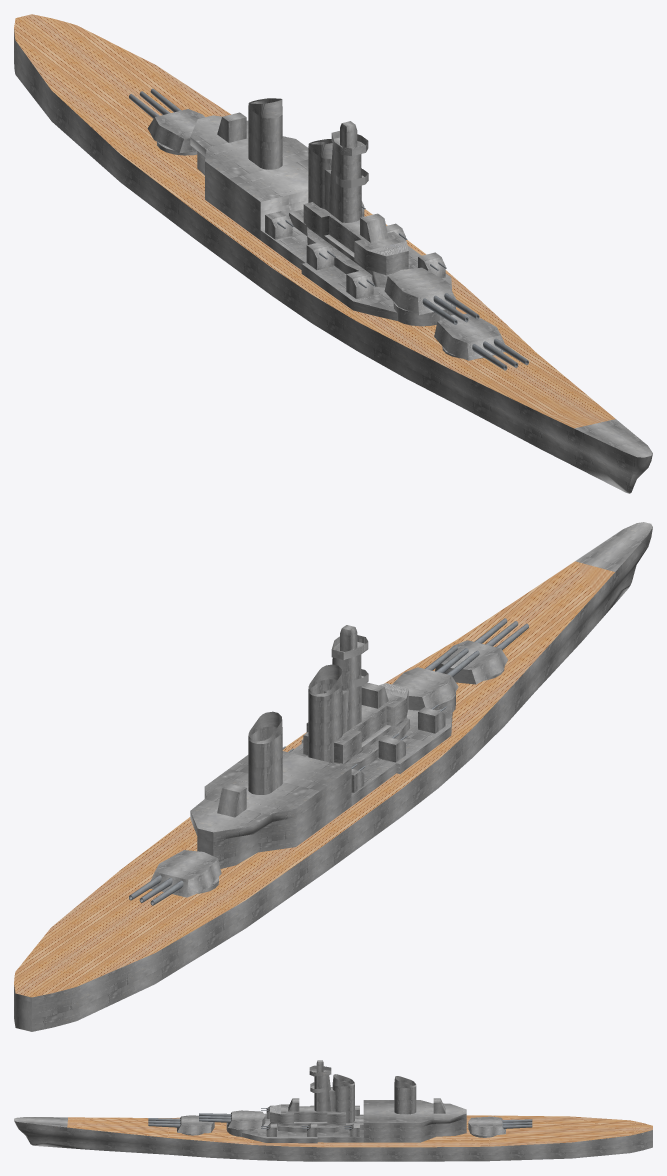
Rendered from Iowa.fbx.
3 renders of one model, top to bottom at view 1: azimuth 30°, elevation 25°; view 2: azimuth 150°, elevation 25°; view 3: azimuth 270°, elevation 25°, orthographic. The views are drawn at different scales.
Parts seen in each view (by area): view 1: pCube25; view 2: pCube25; view 3: pCube25.
Part boxes in pixels (left/top/right/bottom): pCube25: left=14, top=14, right=652, bottom=493; pCube25: left=14, top=522, right=652, bottom=1031; pCube25: left=14, top=1060, right=652, bottom=1161.
Size of the model in its own units: 3.26 by 3.93 by 27.
4 materials, 3 textured.
